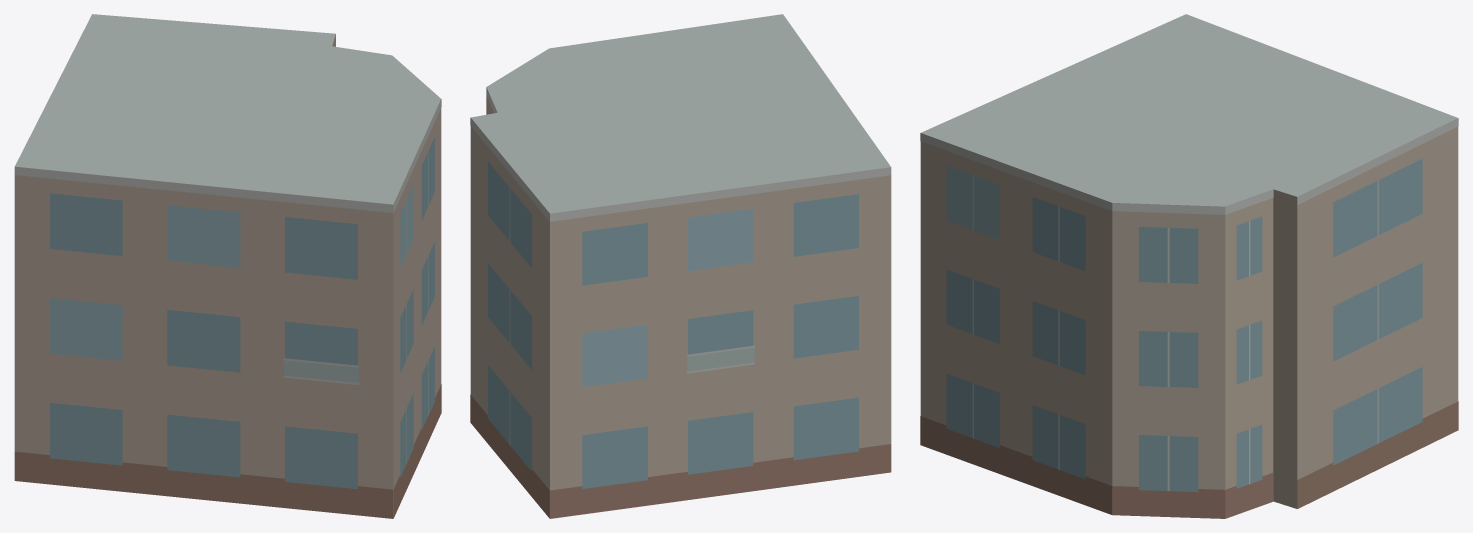
Rendered from survey-upis-32712059.glb.
3 renders of one model, left to right at view 1: azimuth 30°, elevation 25°; view 2: azimuth 150°, elevation 25°; view 3: azimuth 270°, elevation 25°, orthographic. The views are drawn at different scales.
Parts seen in each view (by area): view 1: survey-upis-32712059.tmp; view 2: survey-upis-32712059.tmp; view 3: survey-upis-32712059.tmp.
Part boxes in pixels (bbox=[...]): survey-upis-32712059.tmp: bbox=[14, 14, 441, 518]; survey-upis-32712059.tmp: bbox=[470, 14, 891, 518]; survey-upis-32712059.tmp: bbox=[920, 14, 1458, 518].
Size of the model in its own units: 12.11 by 9.15 by 14.29.
